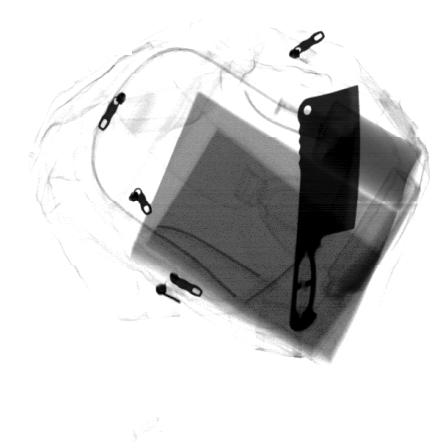Knife: (289, 82, 361, 333)
